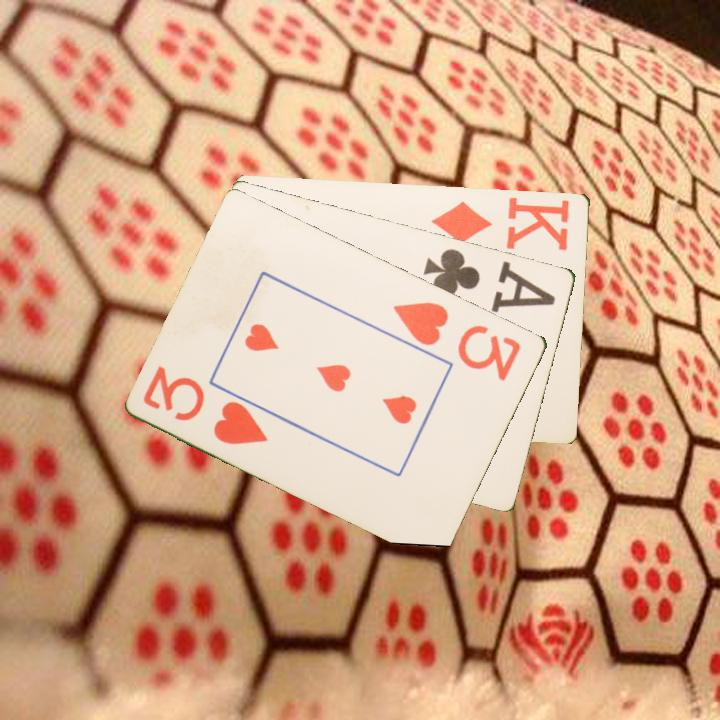3h: (390, 298, 525, 384), (139, 362, 272, 448)
Ac: (420, 244, 559, 314)
Kd: (429, 193, 573, 253)
